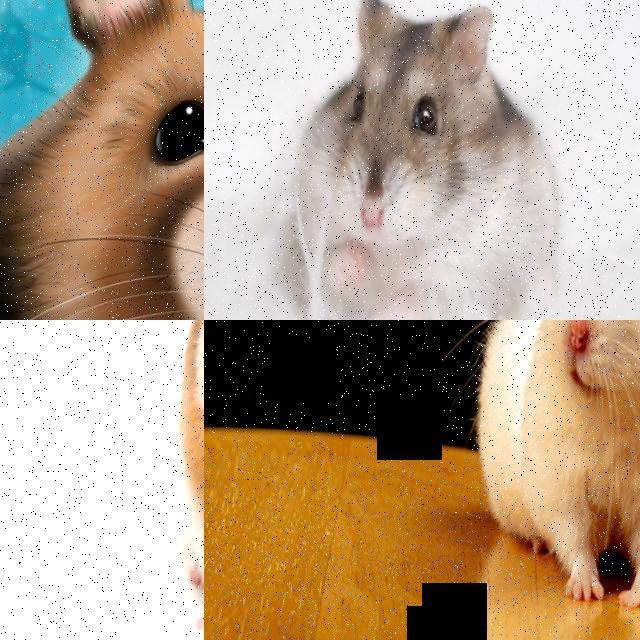hamster: (278, 0, 574, 320), (0, 0, 204, 320), (463, 320, 640, 614), (163, 320, 204, 640)
